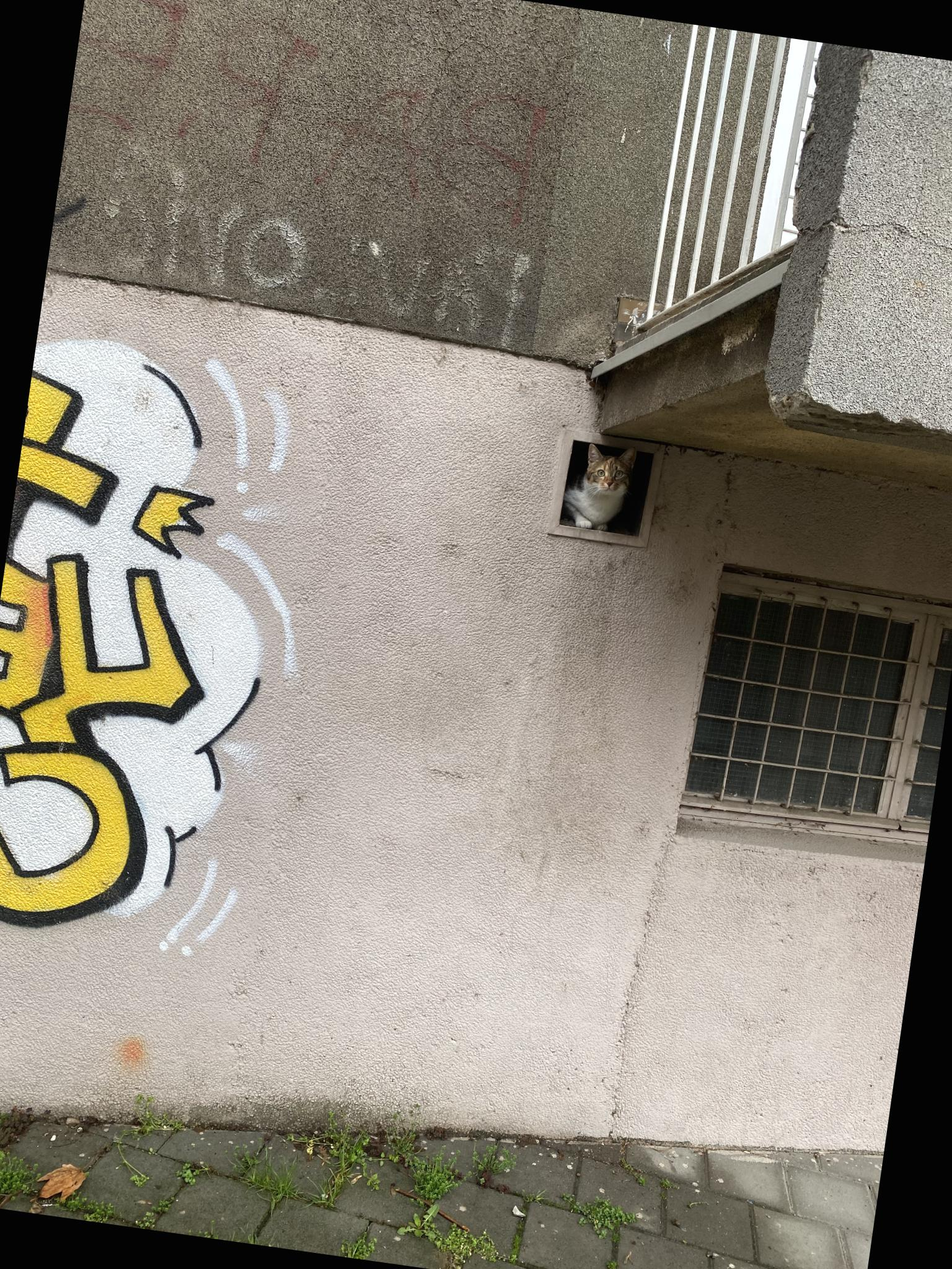macka: (560, 439, 640, 535)
